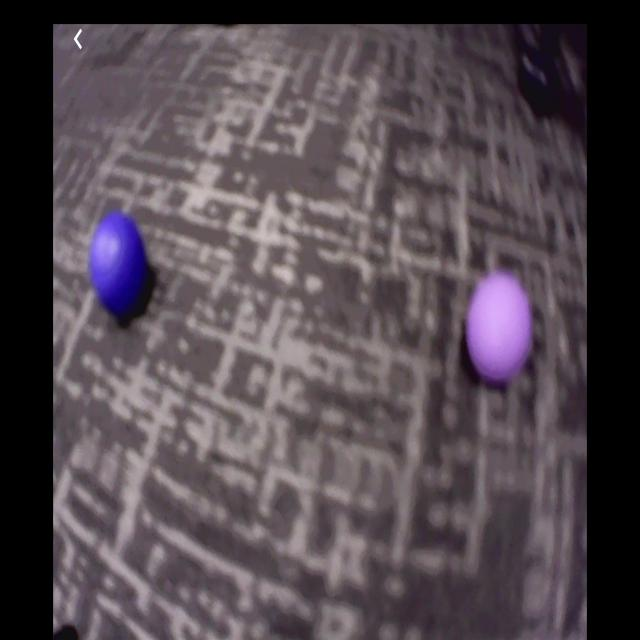ball: (468, 270, 533, 384), (91, 212, 147, 318)
